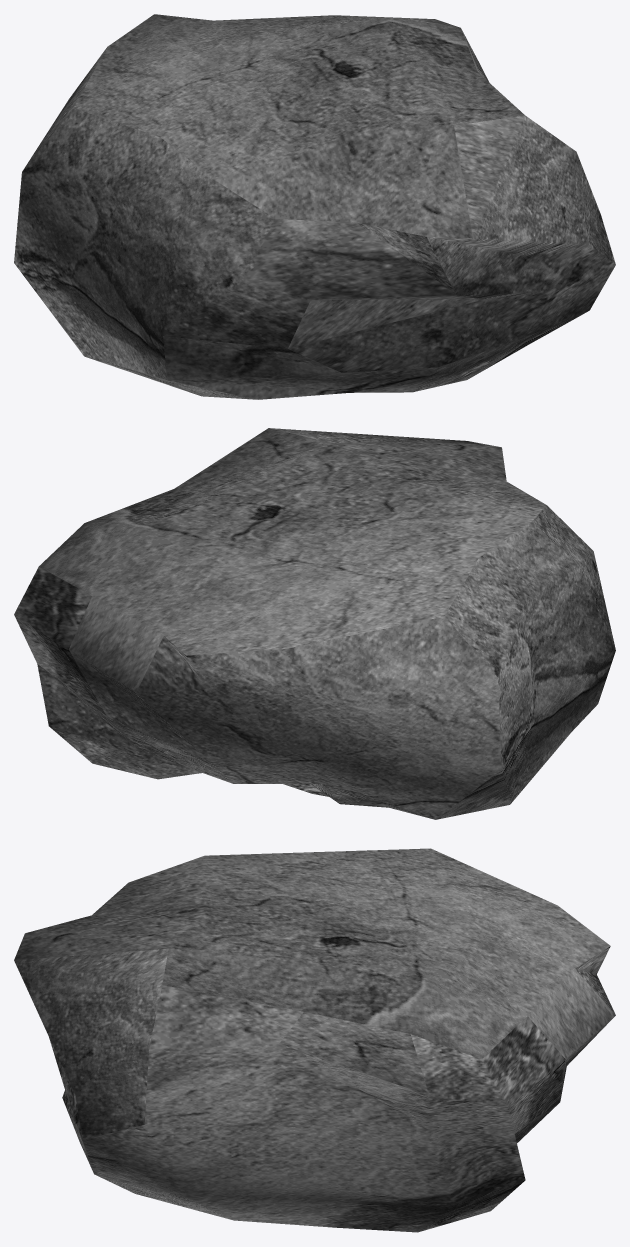
The model's file is RBK.fbx.
3 renders of one model, top to bottom at view 1: azimuth 30°, elevation 25°; view 2: azimuth 150°, elevation 25°; view 3: azimuth 270°, elevation 25°, orthographic.
Parts seen in each view (by area): view 1: Cube.001; view 2: Cube.001; view 3: Cube.001.
Boxes of the visible parts, box(x1,y1,x2,y2) form: Cube.001: box(14, 14, 615, 399); Cube.001: box(14, 428, 615, 819); Cube.001: box(14, 848, 615, 1232).
Size of the model in its own units: 3.18 by 1.68 by 3.63.
1 material, 1 textured.
